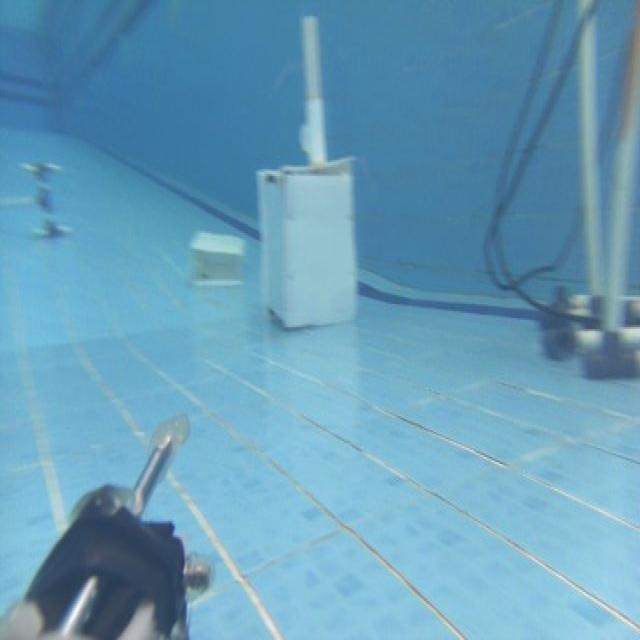Cube: (254, 153, 359, 331)
Cuboid: (188, 228, 246, 284)
